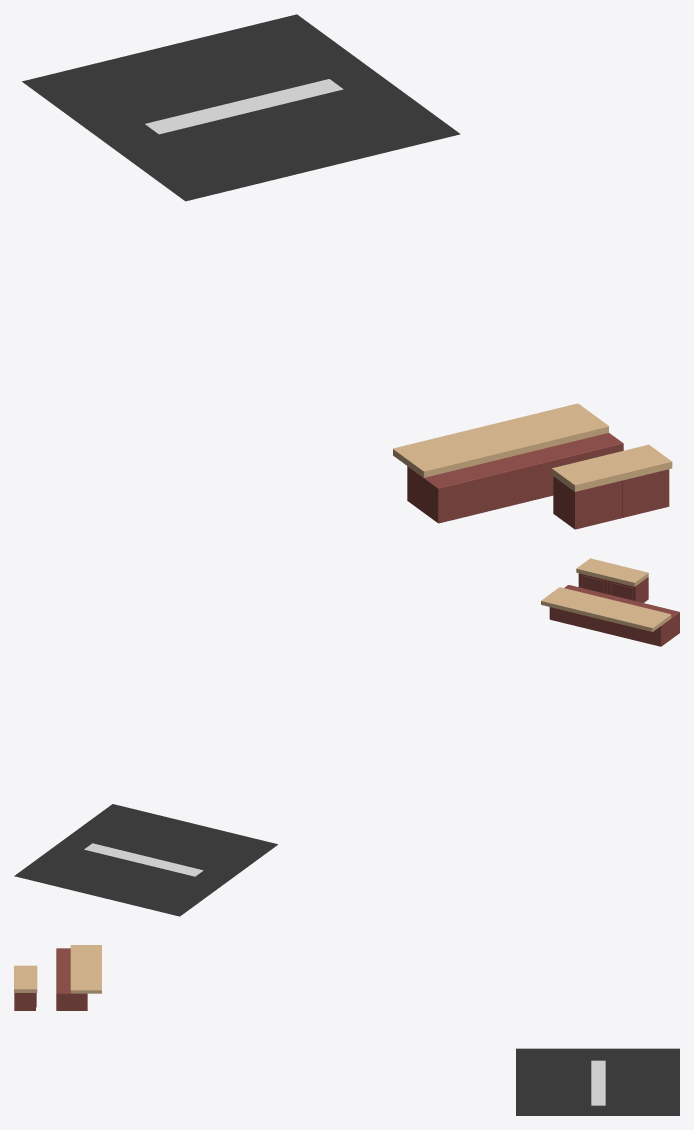
The model's file is Counters.fbx.
3 views of the same model, one above another, from view 1: azimuth 30°, elevation 25°; view 2: azimuth 150°, elevation 25°; view 3: azimuth 270°, elevation 25° (orthographic). The views are drawn at different scales.
Parts seen in each view (by area): view 1: Plane.052, Cube.001, TeaCupToGo, Cube.022, Cube.002, Cube.025, Cube.004; view 2: Plane.052, TeaCupToGo, Cube.001, Cube.022, Cube.025, Cube.004; view 3: Plane.052, TeaCupToGo, Cube.001, Cube.002, Cube.004, Cube.025.
Boxes of the visible parts, bbox=[...] form: Plane.052: bbox=[22, 14, 460, 201]; Cube.001: bbox=[407, 433, 623, 523]; TeaCupToGo: bbox=[393, 403, 608, 477]; Cube.022: bbox=[553, 476, 621, 529]; Cube.002: bbox=[622, 469, 669, 517]; Cube.025: bbox=[551, 457, 622, 491]; Cube.004: bbox=[599, 444, 672, 480]; Plane.052: bbox=[14, 804, 277, 916]; TeaCupToGo: bbox=[541, 587, 671, 631]; Cube.001: bbox=[549, 585, 679, 646]; Cube.022: bbox=[607, 577, 648, 602]; Cube.025: bbox=[606, 566, 648, 586]; Cube.004: bbox=[576, 558, 619, 579]; Plane.052: bbox=[516, 1048, 679, 1115]; TeaCupToGo: bbox=[70, 945, 101, 993]; Cube.001: bbox=[56, 948, 87, 1010]; Cube.002: bbox=[14, 993, 36, 1010]; Cube.004: bbox=[14, 977, 37, 992]; Cube.025: bbox=[14, 965, 37, 977].
Size of the model in its own units: 1562 by 344 by 3736.
